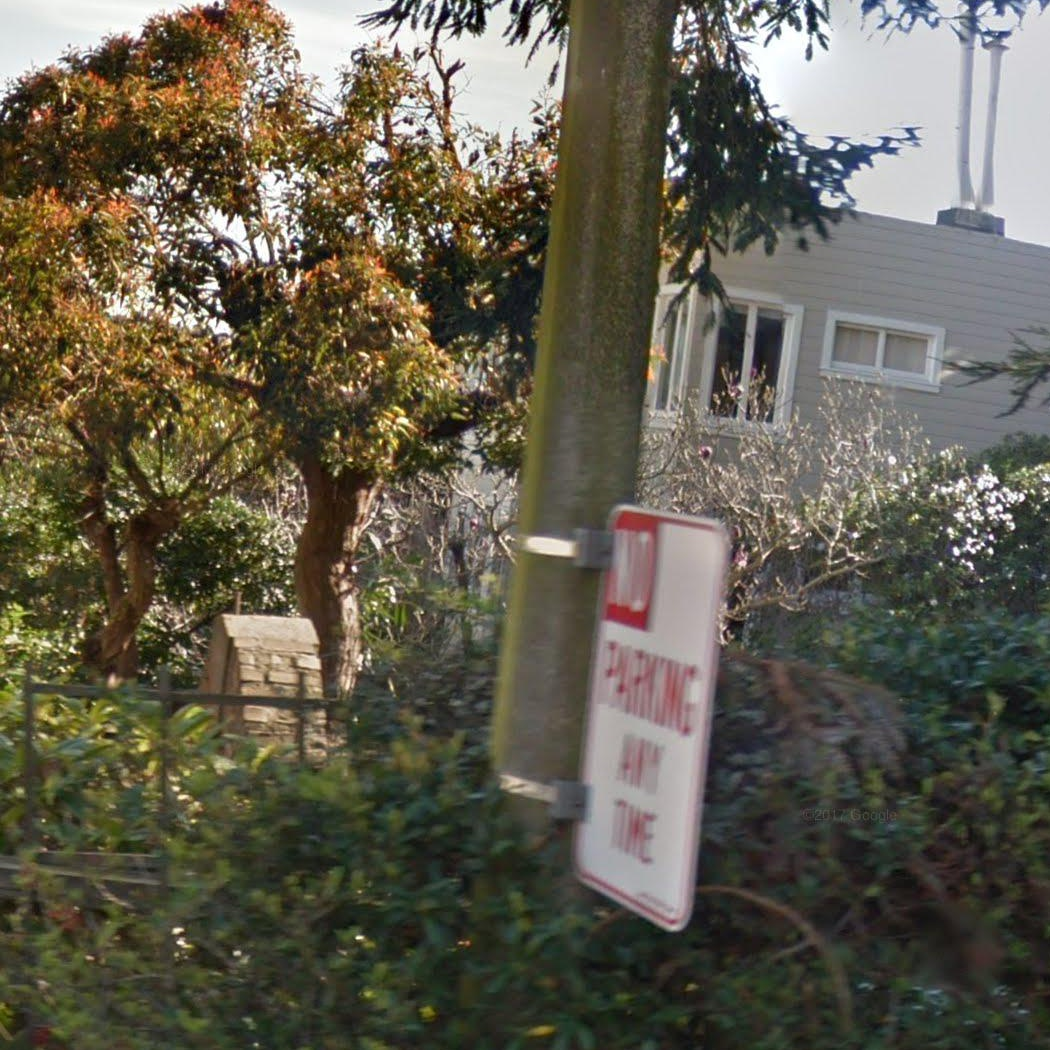No Parking Anytime: (568, 501, 734, 935)
